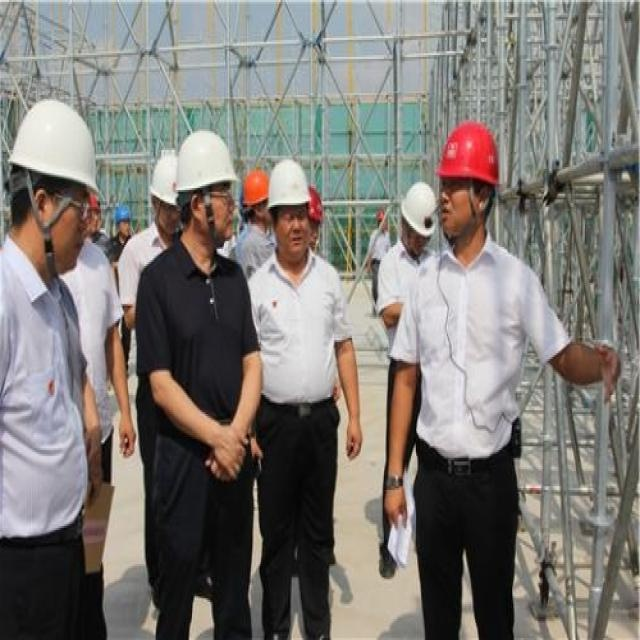Sin_Chaleco: (412, 240, 525, 456), (138, 247, 253, 435), (247, 252, 341, 414)
